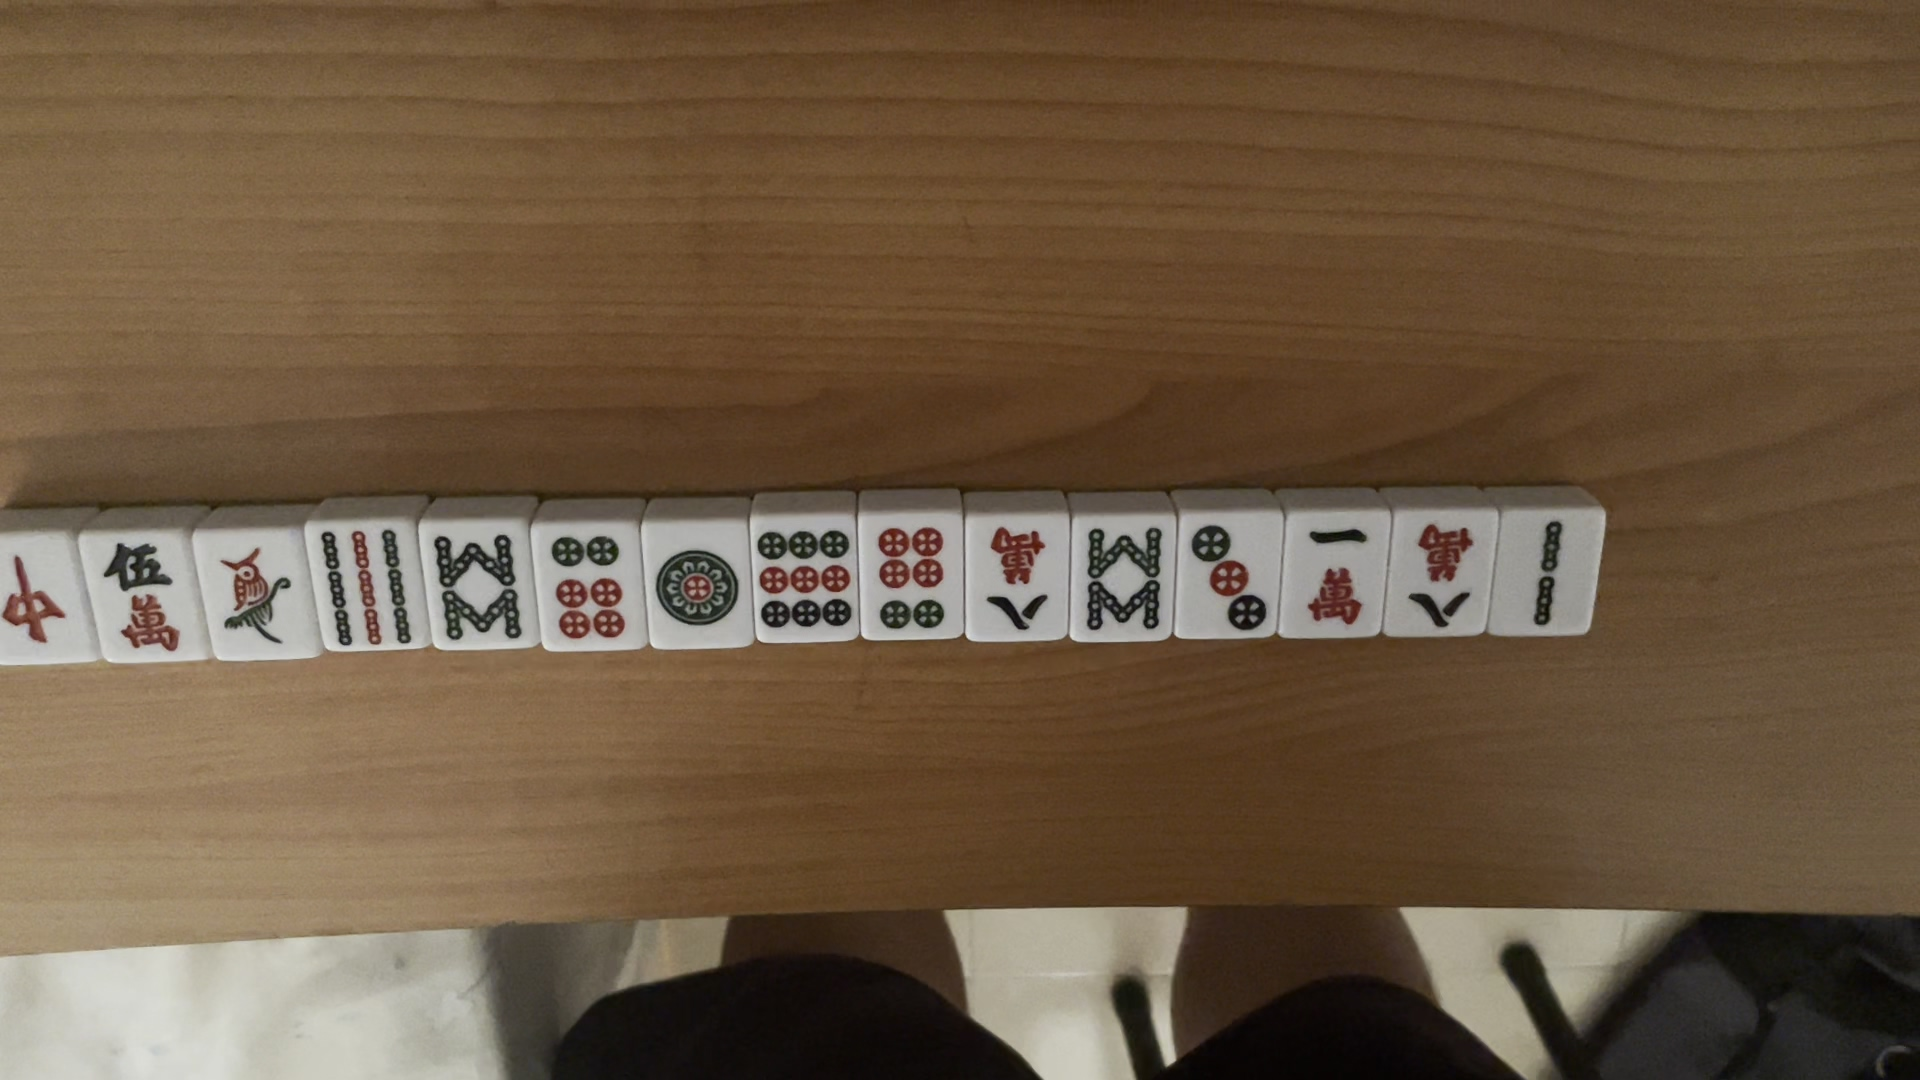b-1: (210, 541, 302, 653)
b-2: (1516, 520, 1575, 634)
b-8: (433, 524, 526, 647), (1080, 514, 1174, 638)
b-9: (313, 522, 419, 650)
c-1: (1302, 509, 1374, 634)
c-5: (96, 531, 183, 670)
c-8: (971, 522, 1055, 640), (1399, 518, 1477, 628)
d-1: (654, 541, 744, 633)
d-3: (1184, 514, 1265, 641)
d-6: (549, 527, 632, 646), (864, 522, 947, 640)
d-9: (762, 525, 849, 640)
honors-red: (3, 550, 69, 653)
